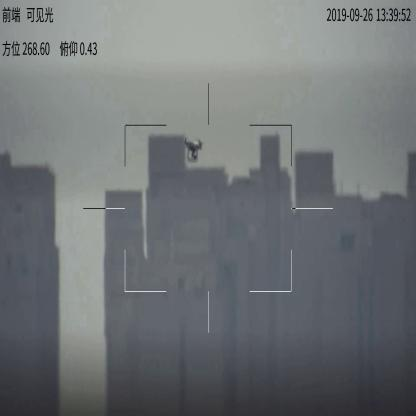uav: (180, 138, 207, 164)
